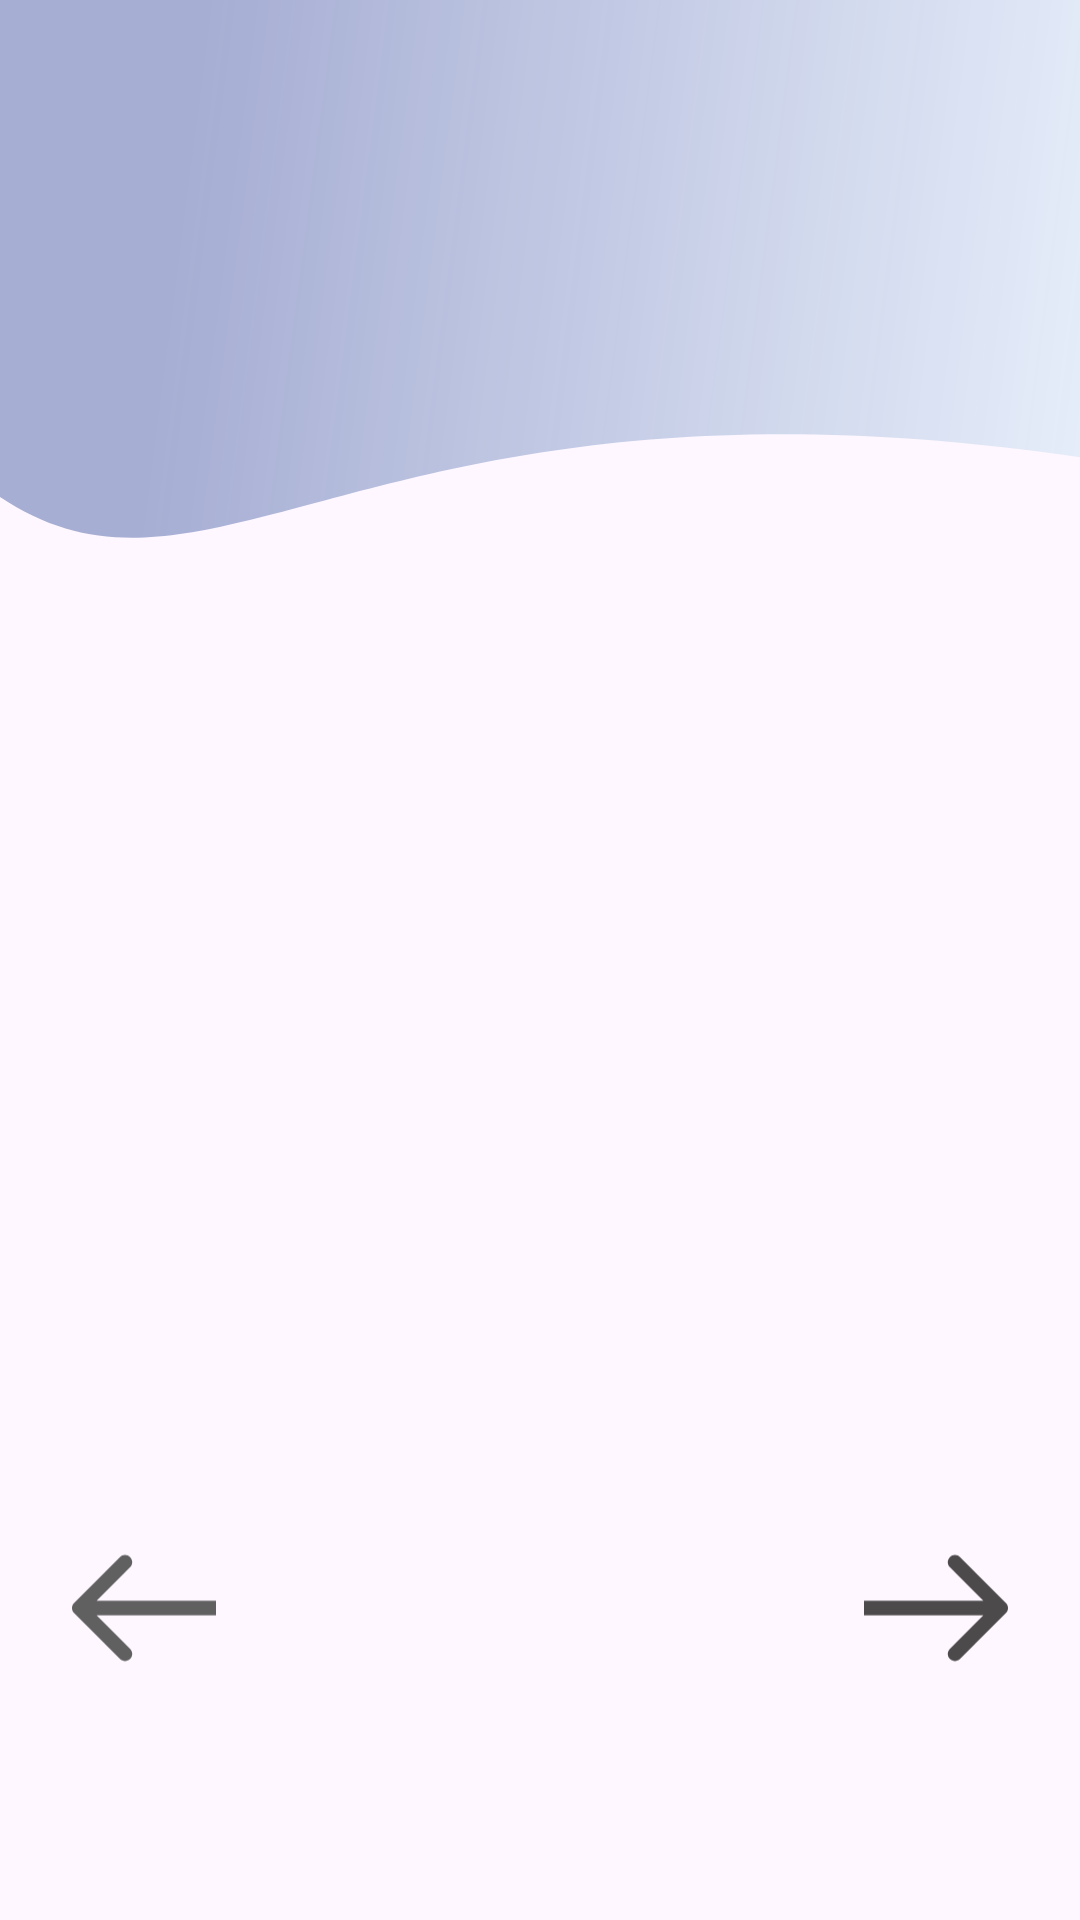

Icons on this 1080×1920 Android screen, each with its box as (x1, y1, x2, y2):
view pager left: (72, 1554, 216, 1662)
viewpager right: (864, 1554, 1008, 1662)
